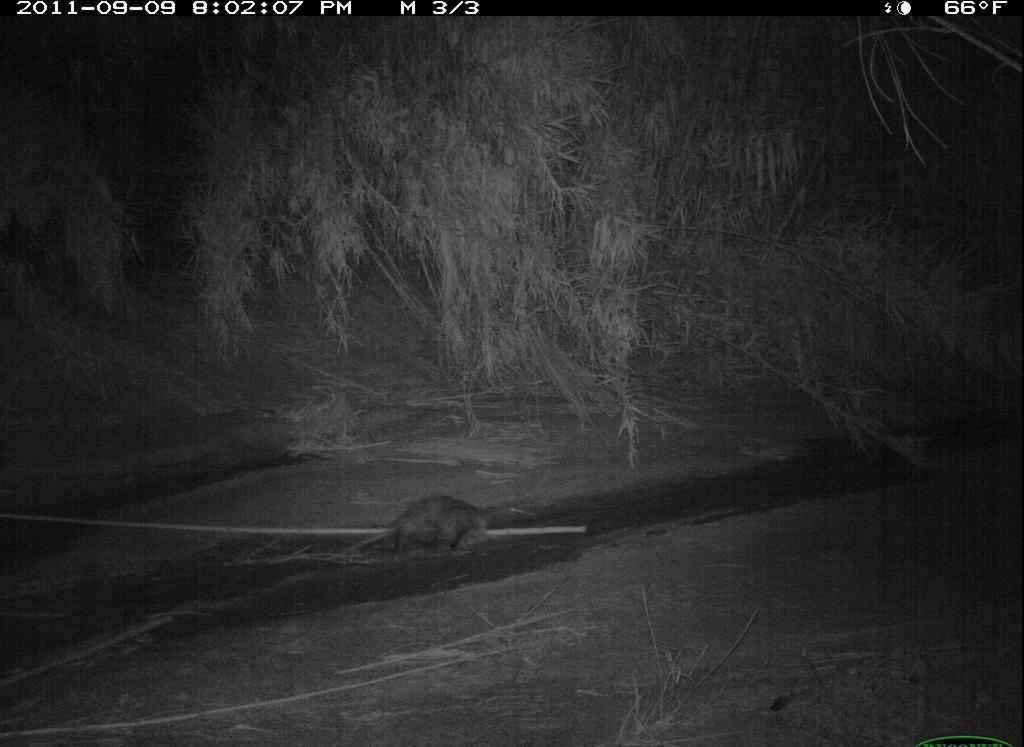opossum: (354, 493, 501, 570)
